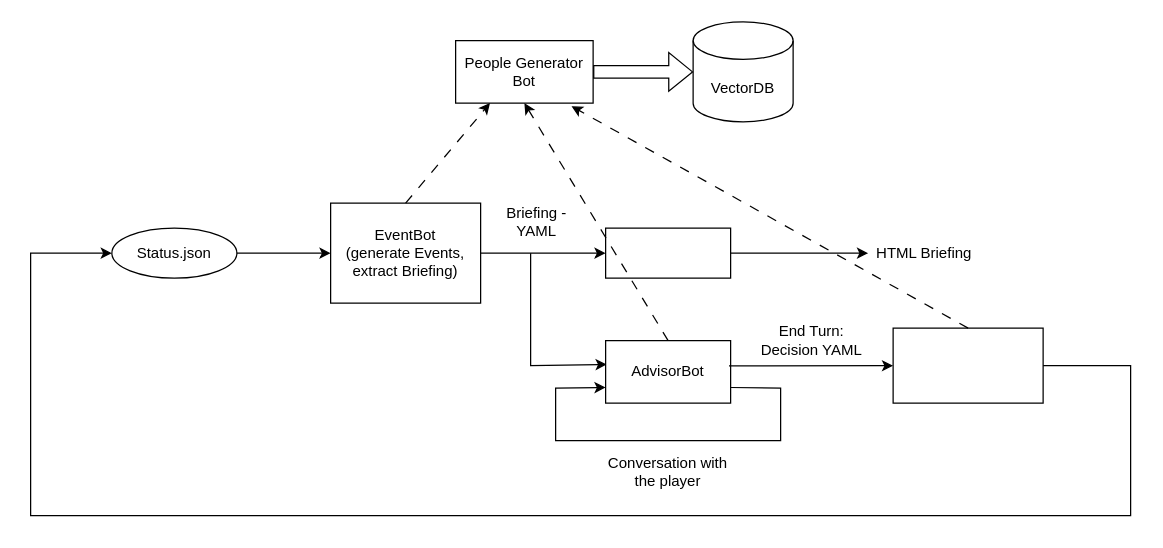
Image size: 1163x548. Some labels were removed from this diagram. Here are the shapes that lost their labels. From the top down, the box of each, then its label:
(604, 227, 731, 278): BriefingBot
(892, 327, 1043, 403): GameEngineBot (decide on outcome of plans)
